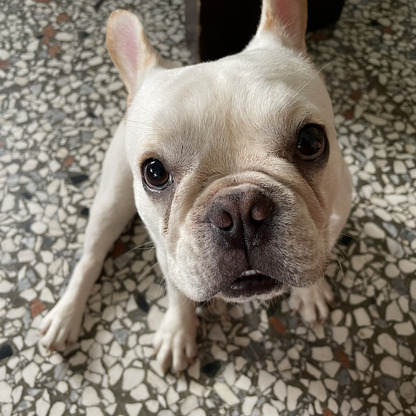bulldog: (39, 3, 357, 378)
